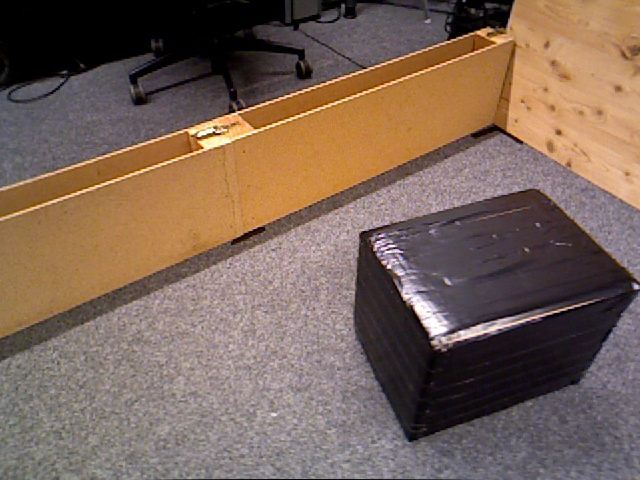push: (354, 188, 638, 438)
